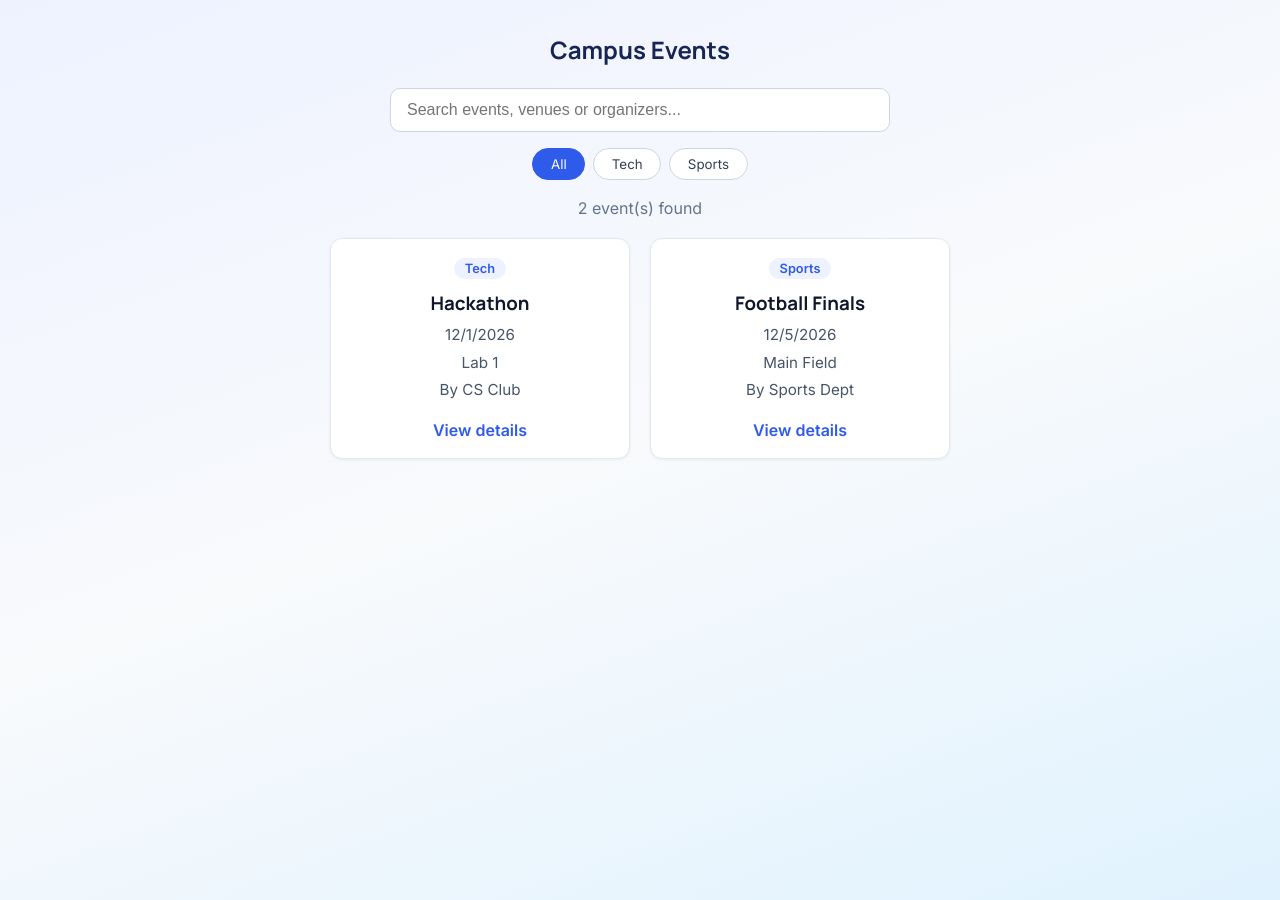
it: Events page › search filters events by title
Expected: the heading "Hackathon" is shown, [430,290,529,316]
Type "hack" into the search field labelled "Search events, venues or organizers...". click: (640, 110)
box: [390,88,890,132]
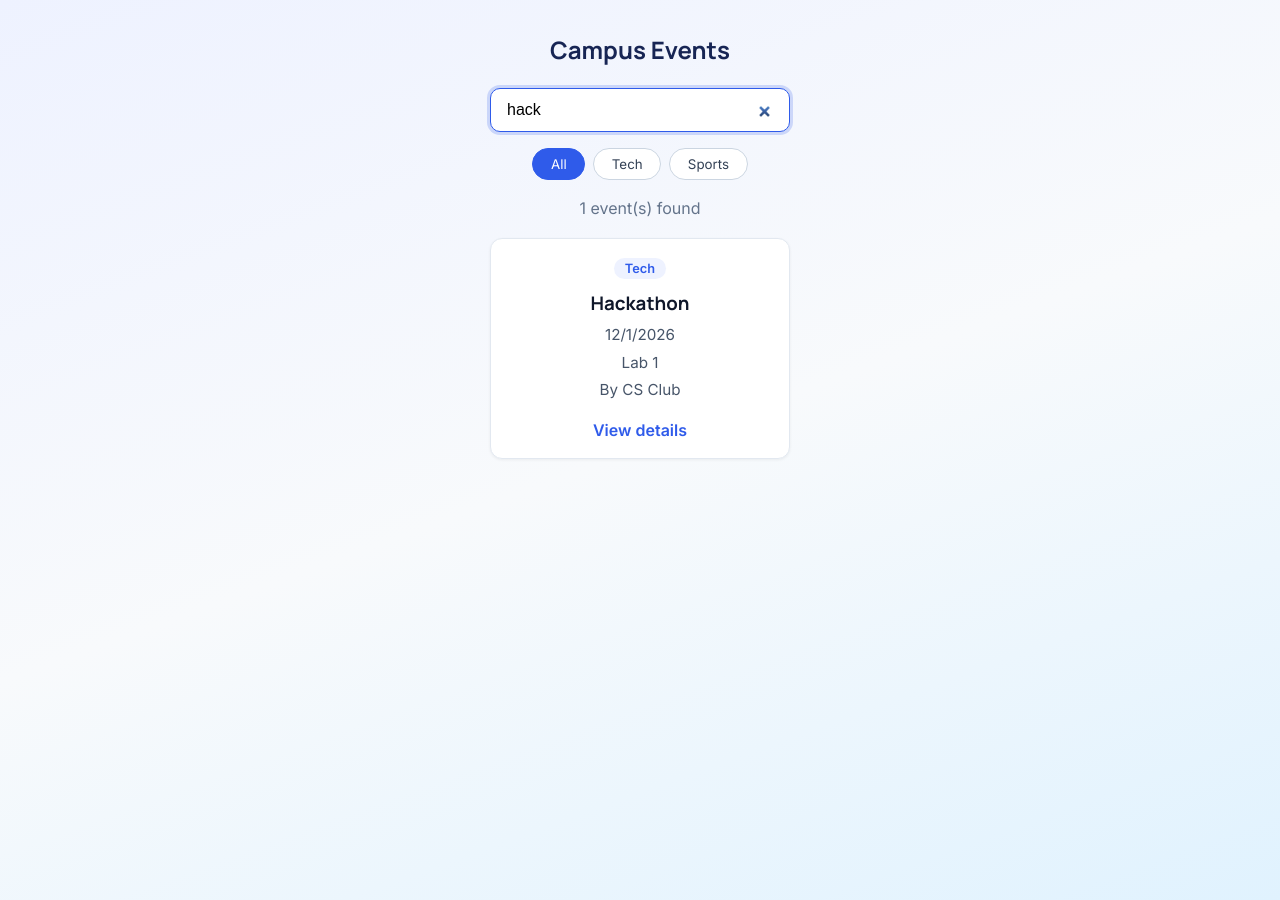
Expected: the heading "Hackathon" is shown, [590,290,689,316]
Expected: the heading "Football Finals" is gone
